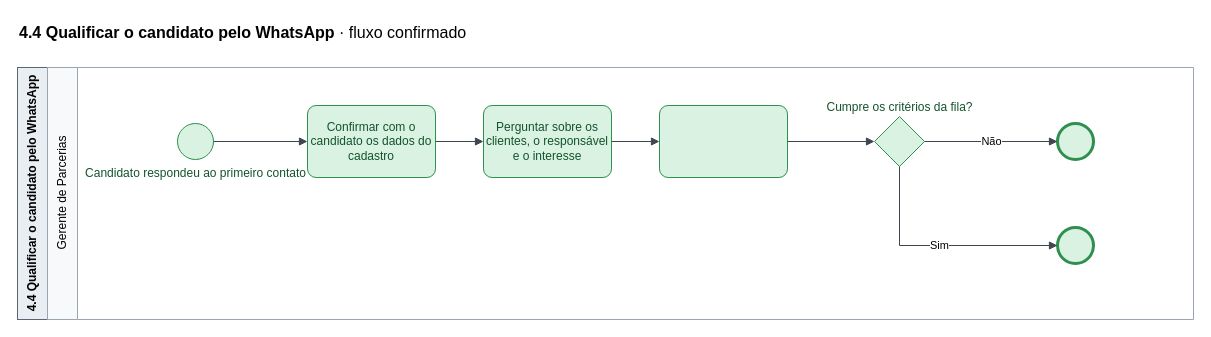
The diagram is 1211 pixels wide and 337 high, and some of its shapes have lost their labels. The shapes that lost their labels are listed below. From the top down, each one's centre as x and y in pixels, then its label:
At pixel 723 141: "Registrar a observação e marcar como contatado".
At pixel 1075 141: "Candidato não elegível".
At pixel 1075 245: "Candidato qualificado".
